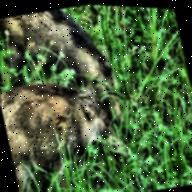boar: (0, 54, 126, 188), (14, 1, 124, 127)
